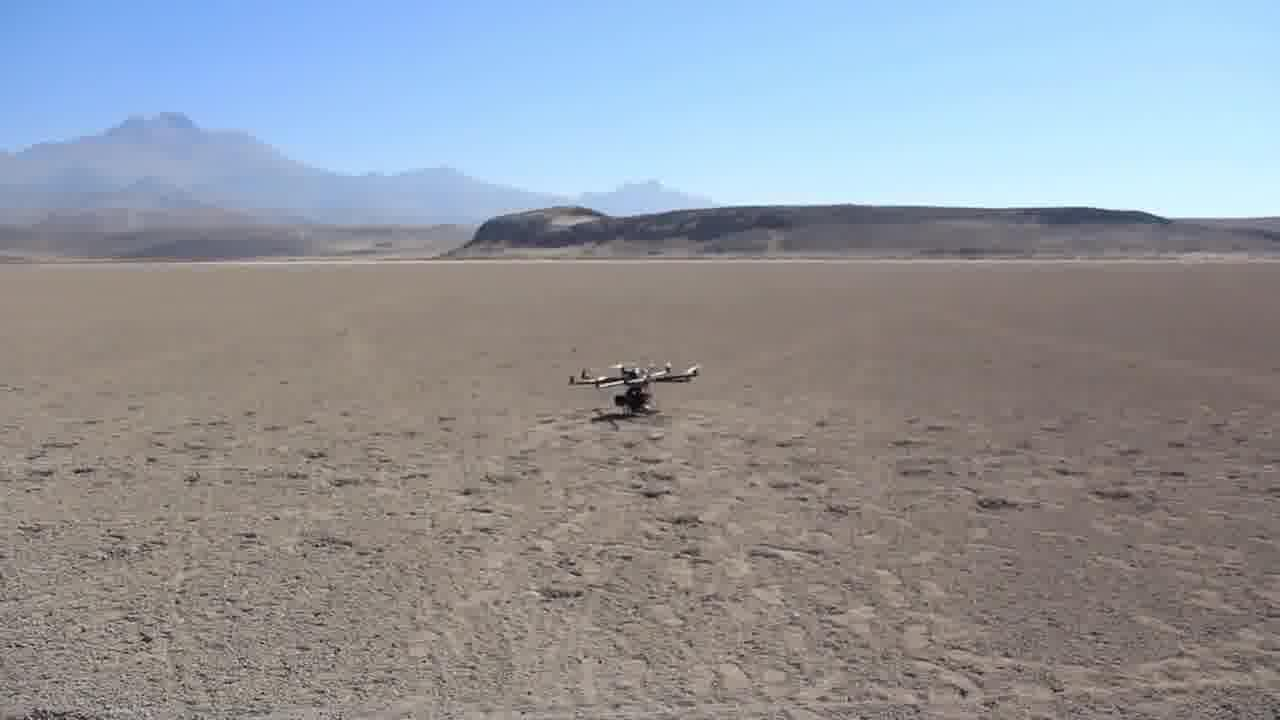drone: (563, 348, 705, 419)
